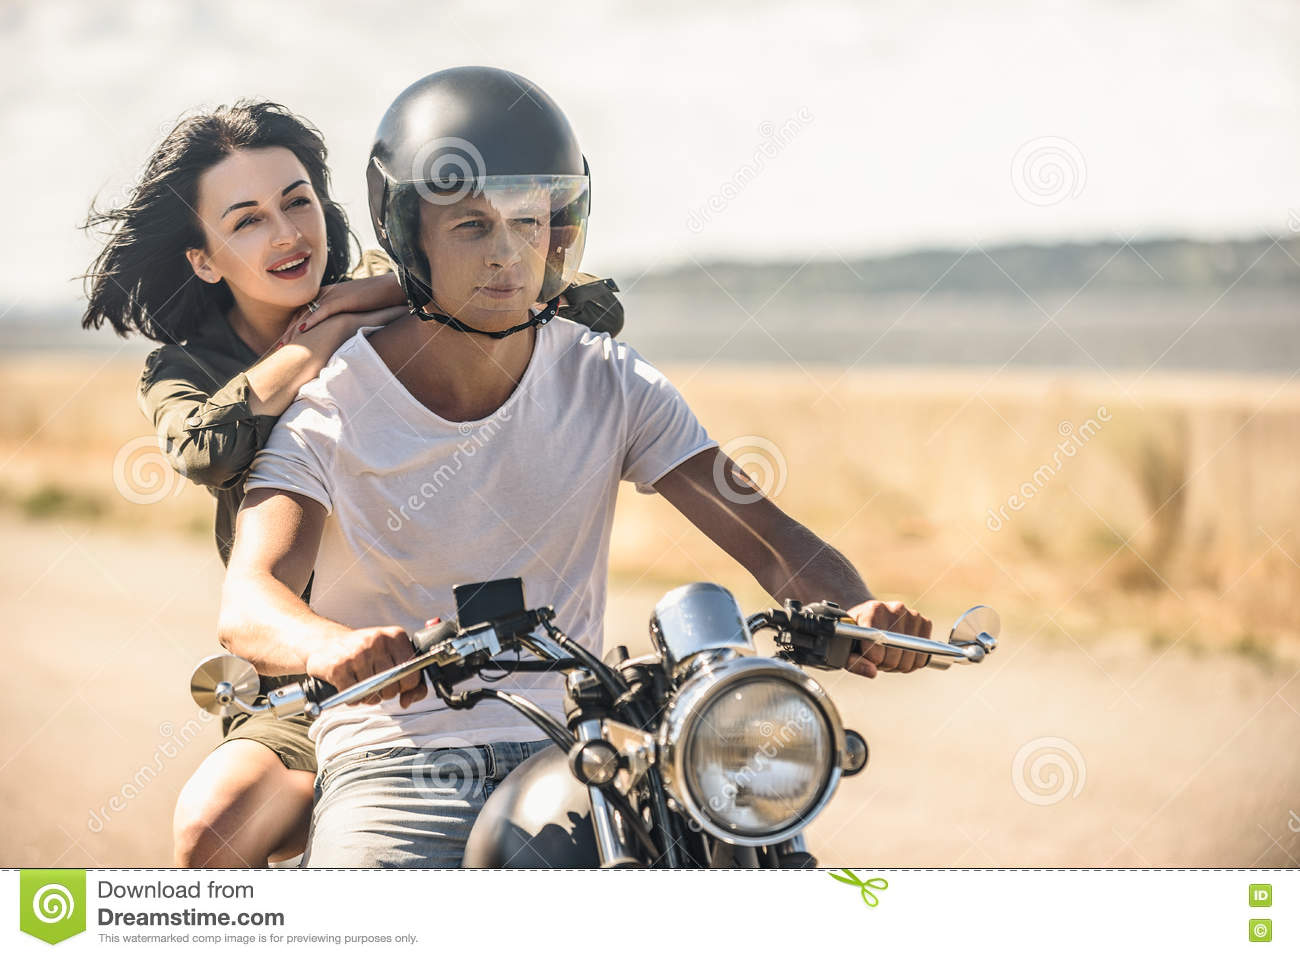helmet: (370, 64, 608, 270)
